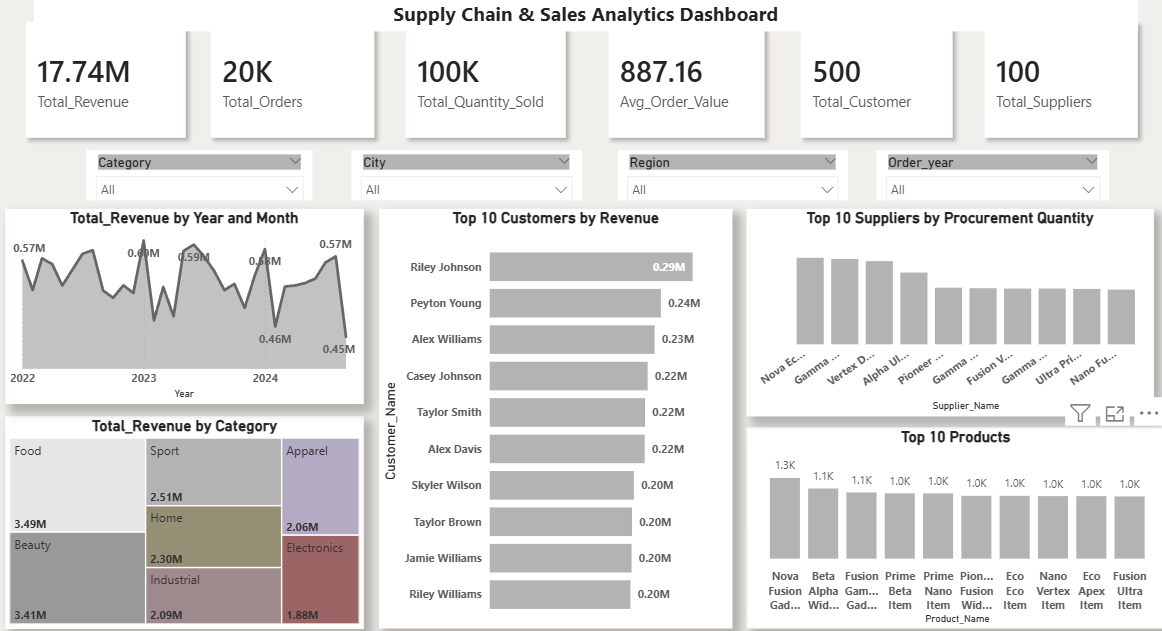

This screenshot's page, from the dashboard's own definition file:
{"tool":"powerbi","page":{"name":"Supply-Chain Dashboard","canvas":[1280,720],"ordinal":0},"visuals":[{"type":"cardVisual","fields":{"Data":["Measures_Table.Total_Revenue"]},"box":[0,0,234.6,186.6],"z":0},{"type":"cardVisual","fields":{"Data":["Measures_Table.Total_Orders"]},"box":[203.1,0,238.8,186.6],"z":1000},{"type":"cardVisual","fields":{"Data":["Measures_Table.Total_Quantity_Sold"]},"box":[417.2,0,234.6,186.6],"z":2000},{"type":"cardVisual","fields":{"Data":["Measures_Table.Avg_Order_Value"]},"box":[639.5,0,230.5,186.6],"z":3000},{"type":"cardVisual","fields":{"Data":["Measures_Table.Total_Customer"]},"box":[850.8,0,225,186.6],"z":4000},{"type":"cardVisual","fields":{"Data":["Measures_Table.Total_Suppliers"]},"box":[1052.5,0,227.8,186.6],"z":5000},{"type":"treemap","fields":{"Group":["product_master.Category"],"Values":["Measures_Table.Total_Revenue"]},"box":[6.9,462.4,393.8,233.3],"z":7000},{"type":"barChart","title":"Top 10 Customers by Revenue","fields":{"Category":["customer_master.Customer_Name"],"Y":["Measures_Table.Total_Revenue"]},"box":[417.2,234.6,388.3,461.1],"z":8000},{"type":"columnChart","title":"Top 10 Suppliers by Procurement Quantity","fields":{"Y":["Measures_Table.Total_Procurement"],"Category":["supplier_master.Supplier_Name"]},"box":[820.6,234.6,447.3,227.8],"z":9000},{"type":"columnChart","title":"Top 10 Products","fields":{"Category":["product_master.Product_Name"],"Y":["Measures_Table.Total_Quantity_Sold"]},"box":[820.6,474.8,459.7,220.9],"z":10000},{"type":"slicer","fields":{"Values":["product_master.Category"]},"box":[96.1,170.2,248.4,54.9],"z":11000},{"type":"slicer","fields":{"Values":["customer_master.City"]},"box":[387,170.2,252.5,54.9],"z":12000},{"type":"slicer","fields":{"Values":["supplier_master.Region"]},"box":[679.2,170.2,252.5,54.9],"z":13000},{"type":"slicer","fields":{"Values":["sales_orders.Order_year"]},"box":[963.3,170.2,255.2,54.9],"z":14000},{"type":"lineChart","fields":{"Y":["Measures_Table.Total_Revenue"],"Category":["sales_orders.Order_Date.Variation.Date Hierarchy.Year","sales_orders.Order_Date.Variation.Date Hierarchy.Month"]},"box":[7.2,235.3,393.3,214.7],"z":14001},{"type":"textbox","box":[38.4,0,1211.7,39.8],"z":14002}]}

Visuals, with their boxes on the page's 1280x720 design canvas (x1, y1, x2, y2). These are canvas units, not pixel positions in the 1162x631 screenshot, which may show the page scaled, cropped or inside an application window:
cardVisual - Measures_Table.Total_Revenue: {"x1": 0, "y1": 0, "x2": 235, "y2": 187}
cardVisual - Measures_Table.Total_Orders: {"x1": 203, "y1": 0, "x2": 442, "y2": 187}
cardVisual - Measures_Table.Total_Quantity_Sold: {"x1": 417, "y1": 0, "x2": 652, "y2": 187}
cardVisual - Measures_Table.Avg_Order_Value: {"x1": 640, "y1": 0, "x2": 870, "y2": 187}
cardVisual - Measures_Table.Total_Customer: {"x1": 851, "y1": 0, "x2": 1076, "y2": 187}
cardVisual - Measures_Table.Total_Suppliers: {"x1": 1052, "y1": 0, "x2": 1280, "y2": 187}
treemap - product_master.Category x Measures_Table.Total_Revenue: {"x1": 7, "y1": 462, "x2": 401, "y2": 696}
"Top 10 Customers by Revenue" barChart: {"x1": 417, "y1": 235, "x2": 806, "y2": 696}
"Top 10 Suppliers by Procurement Quantity" columnChart: {"x1": 821, "y1": 235, "x2": 1268, "y2": 462}
"Top 10 Products" columnChart: {"x1": 821, "y1": 475, "x2": 1280, "y2": 696}
slicer - product_master.Category: {"x1": 96, "y1": 170, "x2": 344, "y2": 225}
slicer - customer_master.City: {"x1": 387, "y1": 170, "x2": 640, "y2": 225}
slicer - supplier_master.Region: {"x1": 679, "y1": 170, "x2": 932, "y2": 225}
slicer - sales_orders.Order_year: {"x1": 963, "y1": 170, "x2": 1218, "y2": 225}
lineChart - Measures_Table.Total_Revenue x sales_orders.Order_Date.Variation.Date Hierarchy.Year: {"x1": 7, "y1": 235, "x2": 400, "y2": 450}
textbox: {"x1": 38, "y1": 0, "x2": 1250, "y2": 40}
